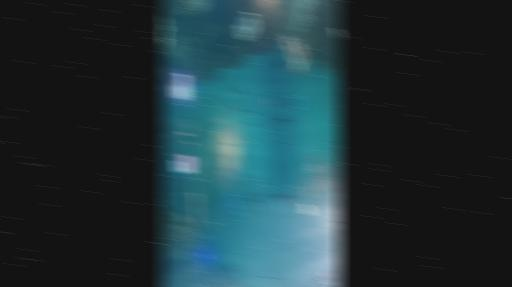Fish: (284, 36, 303, 75), (237, 12, 256, 39), (304, 176, 317, 197), (318, 167, 329, 190), (251, 199, 260, 226), (308, 154, 319, 173), (256, 194, 267, 210), (299, 204, 312, 214), (334, 166, 340, 182), (266, 95, 272, 109), (232, 199, 241, 208), (248, 122, 259, 129), (246, 93, 253, 104), (223, 98, 232, 105), (225, 89, 234, 96), (334, 28, 340, 38), (244, 110, 255, 115), (278, 195, 294, 198), (324, 271, 330, 278), (237, 209, 243, 216), (231, 104, 238, 110), (275, 200, 282, 206), (243, 104, 253, 108), (275, 118, 288, 121), (226, 110, 232, 116), (332, 280, 338, 286), (235, 87, 242, 92), (237, 107, 243, 112), (244, 87, 247, 96), (240, 199, 243, 202)
